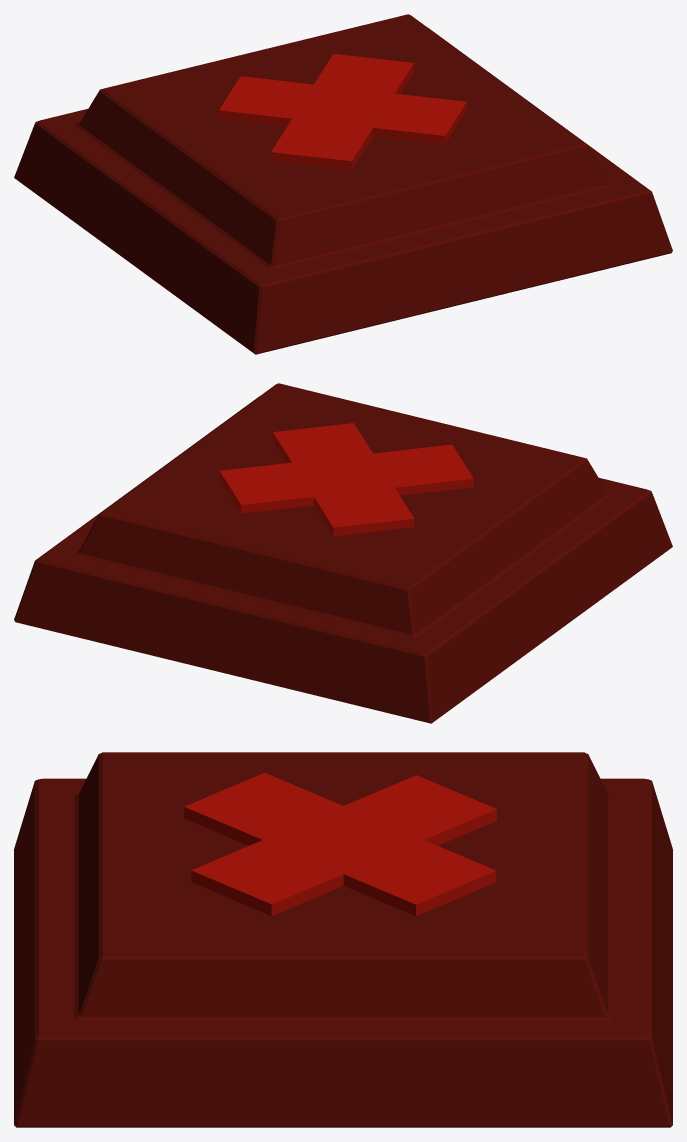
The model's file is stopButton.fbx.
The picture shows the model from 3 angles, top to bottom: view 1: azimuth 30°, elevation 25°; view 2: azimuth 150°, elevation 25°; view 3: azimuth 270°, elevation 25°; orthographic projection. The views are drawn at different scales.
Parts seen in each view (by area): view 1: Cube, Cube.002; view 2: Cube, Cube.002; view 3: Cube, Cube.002.
Part boxes in pixels (bbox=[...]): Cube: bbox=[14, 14, 672, 354]; Cube.002: bbox=[219, 54, 466, 169]; Cube: bbox=[14, 383, 672, 723]; Cube.002: bbox=[219, 423, 473, 536]; Cube: bbox=[14, 752, 672, 1127]; Cube.002: bbox=[184, 772, 496, 916].
Size of the model in its own units: 200 by 50 by 200.
